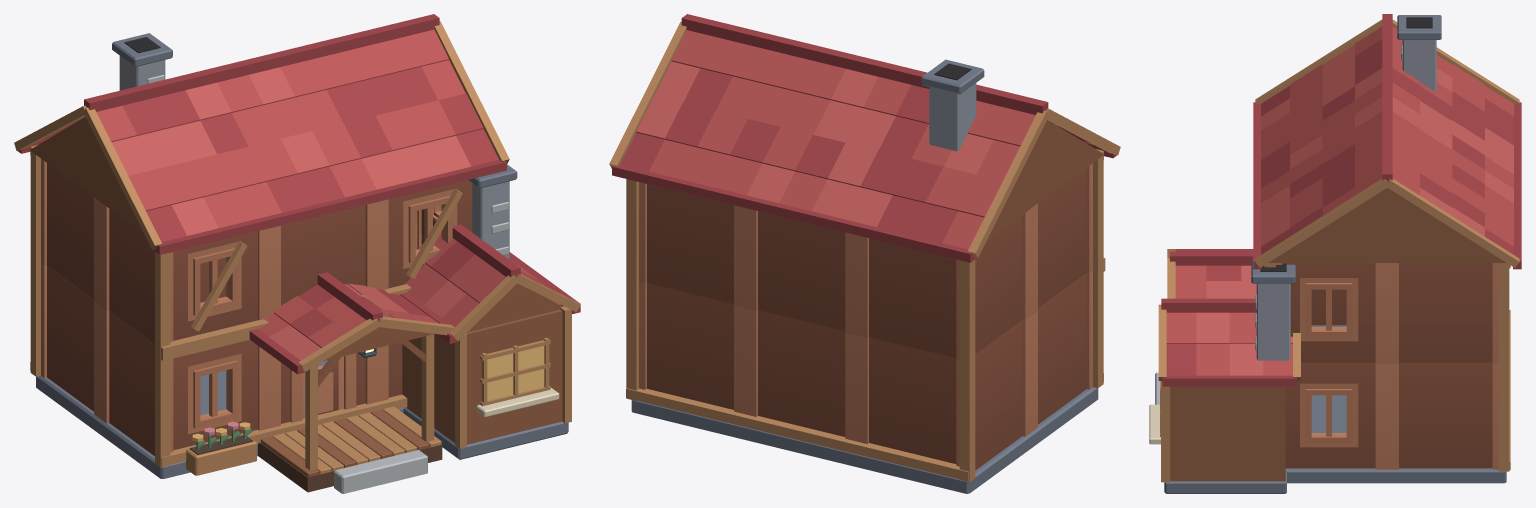
The model's file is farmhouse_2.glb.
3 views of the same model, side by side, from view 1: azimuth 30°, elevation 25°; view 2: azimuth 150°, elevation 25°; view 3: azimuth 270°, elevation 25° (orthographic). The views are drawn at different scales.
Visible parts, largest first — view 1: farmhouse_2_建筑共用调色板.002, farmhouse_2_fantasy-town-kit 调色板; view 2: farmhouse_2_建筑共用调色板.002, farmhouse_2_fantasy-town-kit 调色板; view 3: farmhouse_2_建筑共用调色板.002, farmhouse_2_fantasy-town-kit 调色板.
Part boxes in pixels (x1=…): farmhouse_2_建筑共用调色板.002: x1=14, y1=14, x2=580, y2=493; farmhouse_2_fantasy-town-kit 调色板: x1=41, y1=159, x2=472, y2=455; farmhouse_2_建筑共用调色板.002: x1=609, y1=14, x2=1120, y2=493; farmhouse_2_fantasy-town-kit 调色板: x1=639, y1=163, x2=1092, y2=470; farmhouse_2_建筑共用调色板.002: x1=1149, y1=14, x2=1521, y2=493; farmhouse_2_fantasy-town-kit 调色板: x1=1276, y1=263, x2=1498, y2=469.
Bounding box in the file's own units: 6.99 × 6.41 × 6.38.
Materials: 3 (2 with a texture image).
